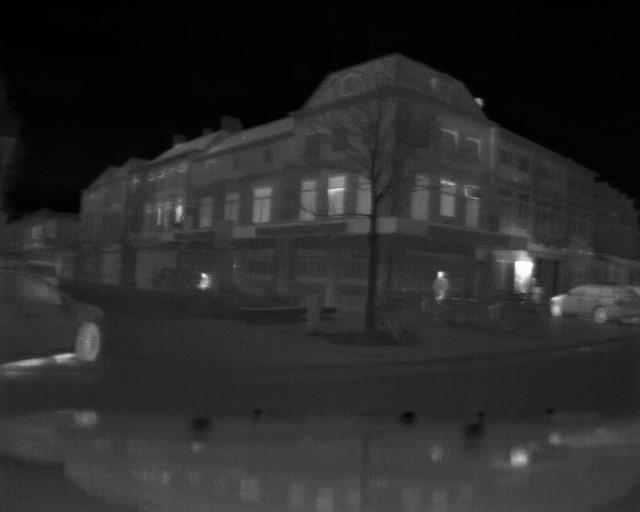car: (1, 263, 115, 367), (547, 279, 640, 326)
person: (429, 268, 450, 306)
